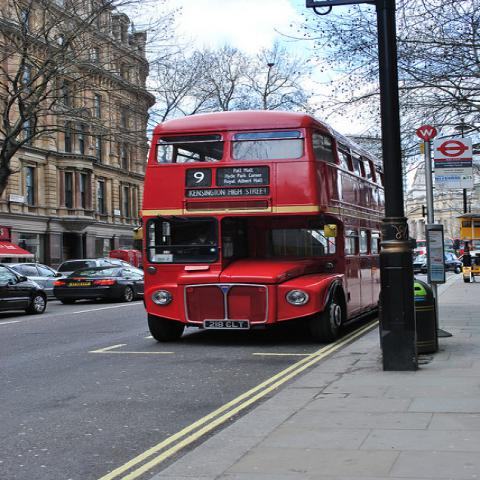bus: (140, 112, 379, 345)
car: (52, 265, 146, 305), (0, 263, 48, 314), (0, 263, 69, 296), (413, 252, 462, 274), (61, 256, 133, 270)
